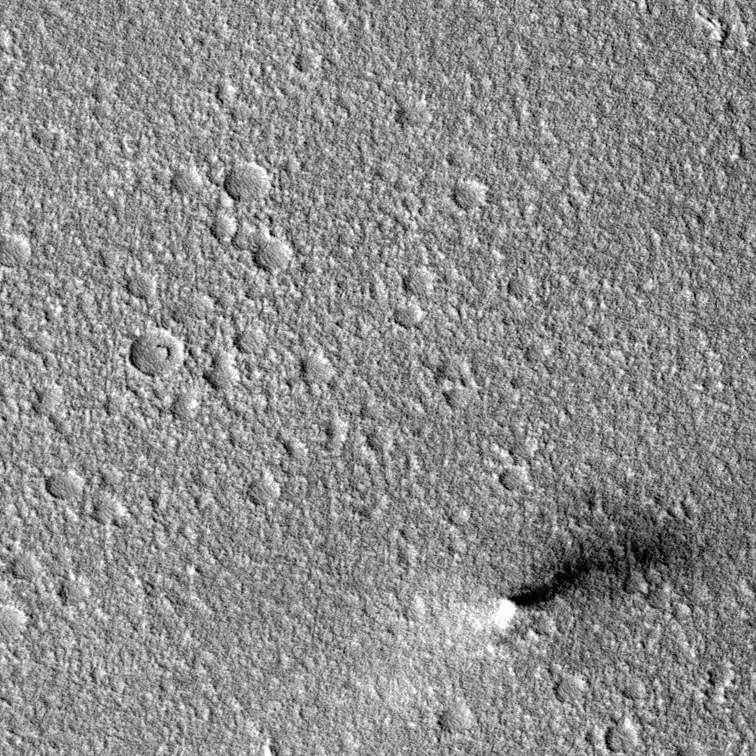dust_devil: (481, 520, 703, 639)
